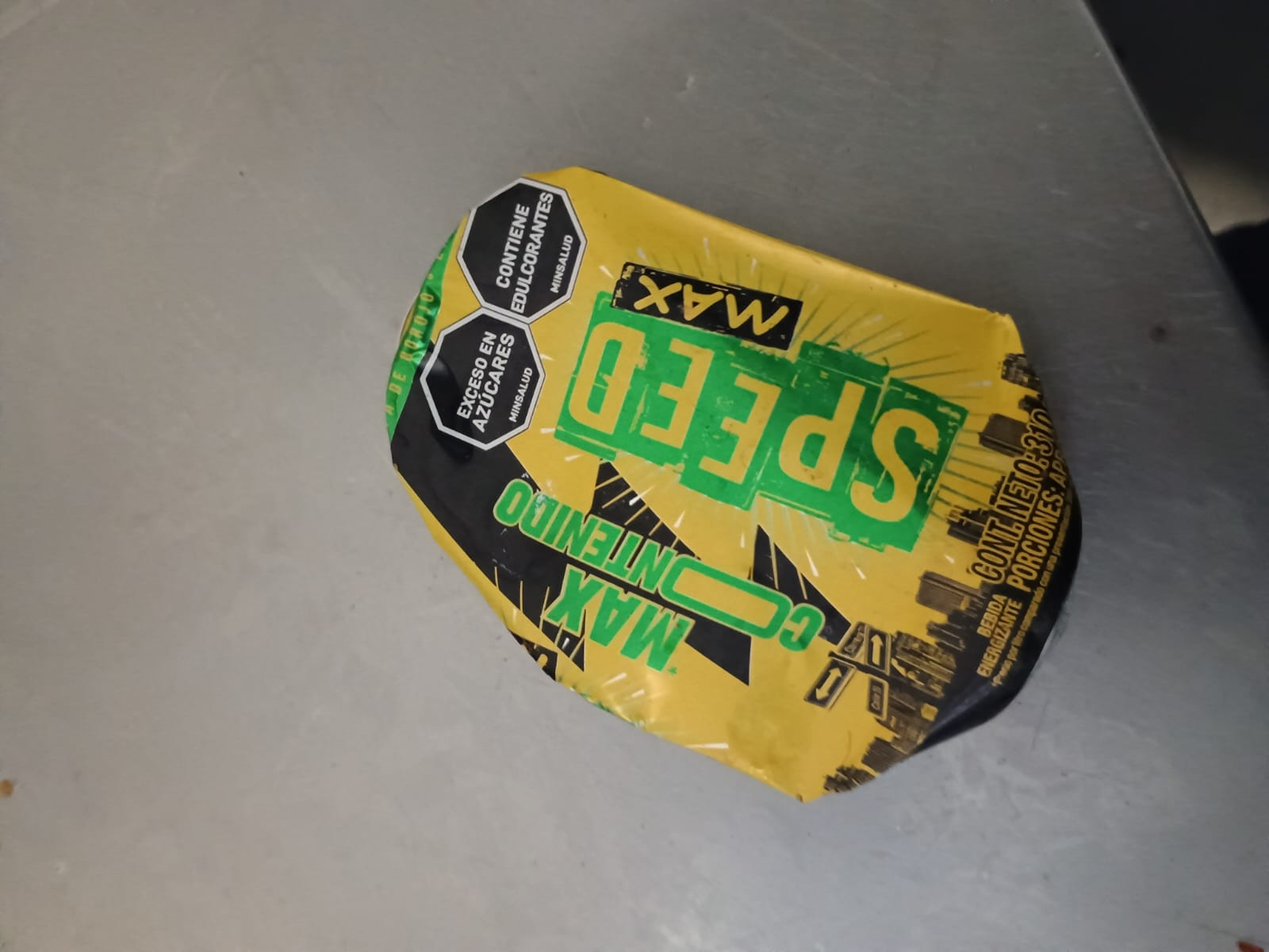Metal: (384, 165, 1084, 803)
